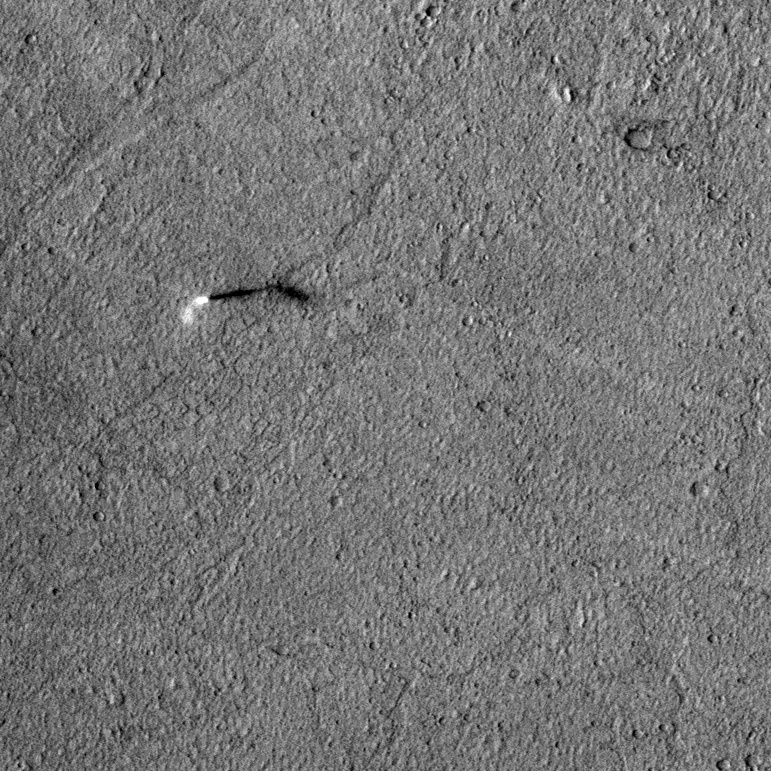dust_devil: (178, 277, 316, 327)
